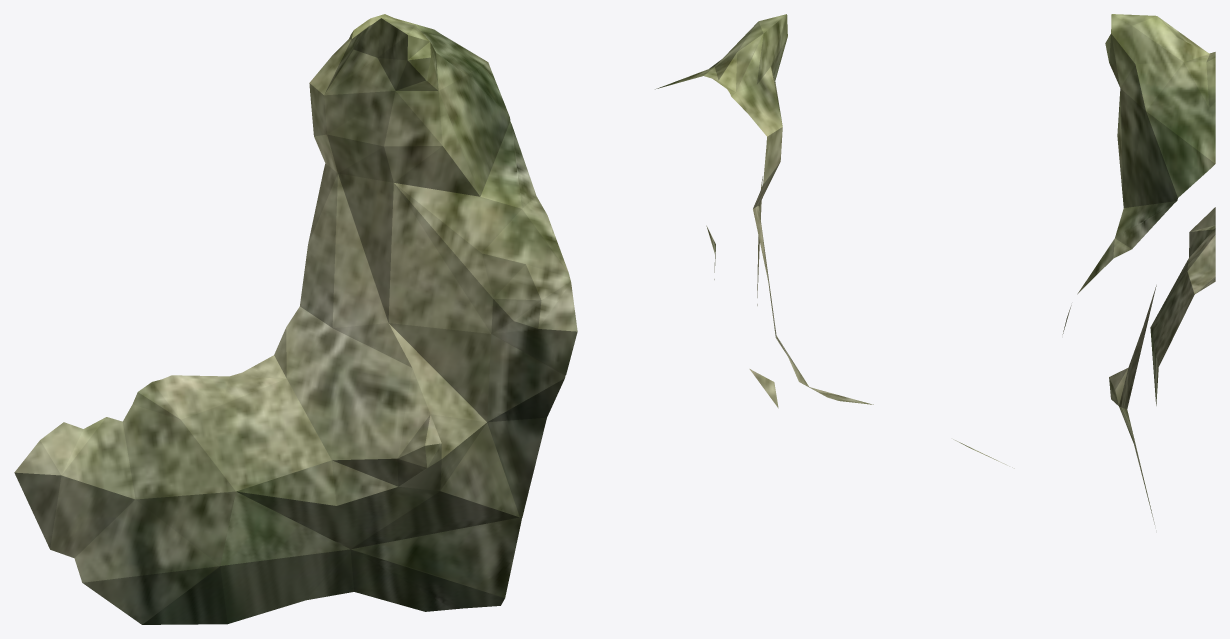
3 views of the same model, side by side, from view 1: azimuth 30°, elevation 25°; view 2: azimuth 150°, elevation 25°; view 3: azimuth 270°, elevation 25° (orthographic). The views are drawn at different scales.
Bounding box in the file's own units: 3.84 × 4.95 × 1.25.
1 material, 1 textured.
